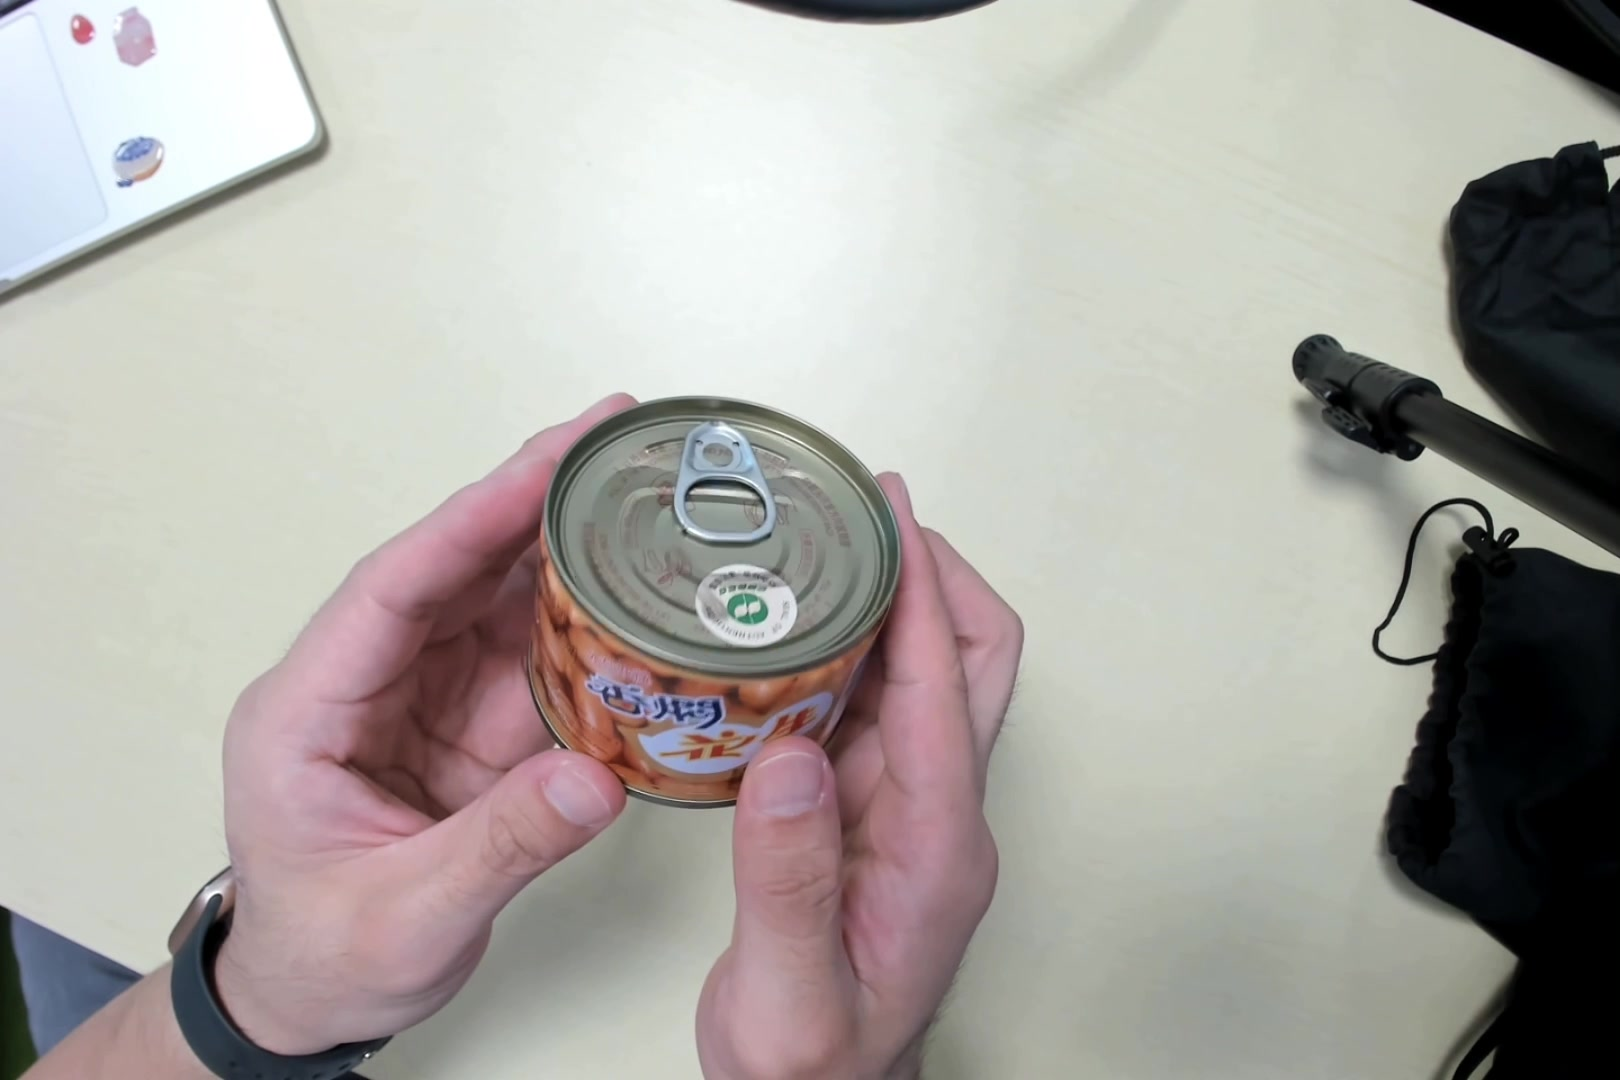CannedBraisedPeanuts_100-199g_NonHalal_NonHealthy: (527, 404, 885, 809)
